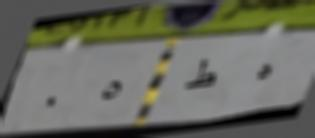0: (41, 91, 61, 111)
5: (95, 77, 126, 103)
Taa: (182, 53, 223, 101)
haa: (246, 51, 277, 90)
